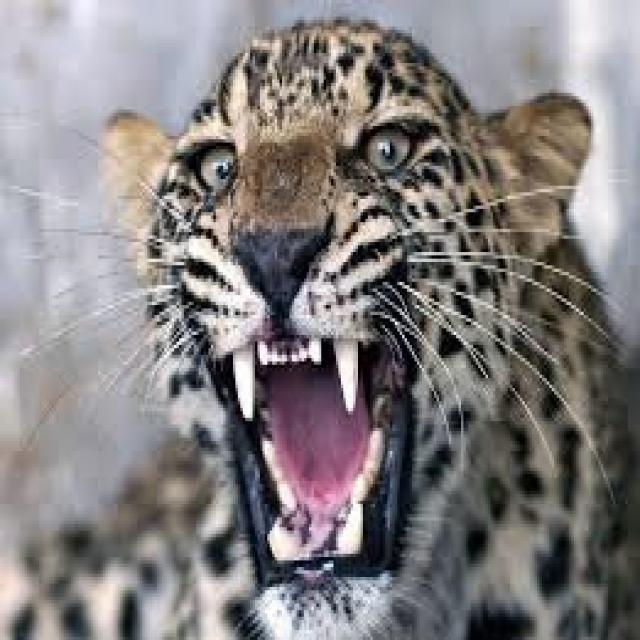leopard: (0, 20, 638, 637)
